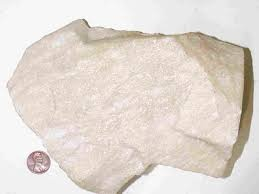obstacle: (8, 19, 252, 192)
